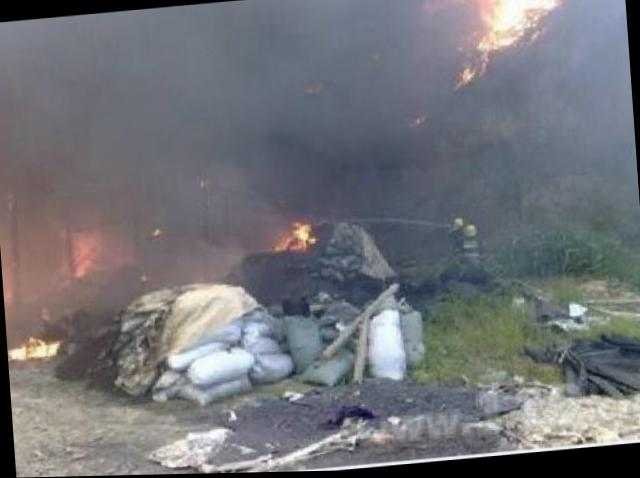fire: (476, 0, 538, 49), (280, 217, 310, 250), (535, 0, 561, 15)
